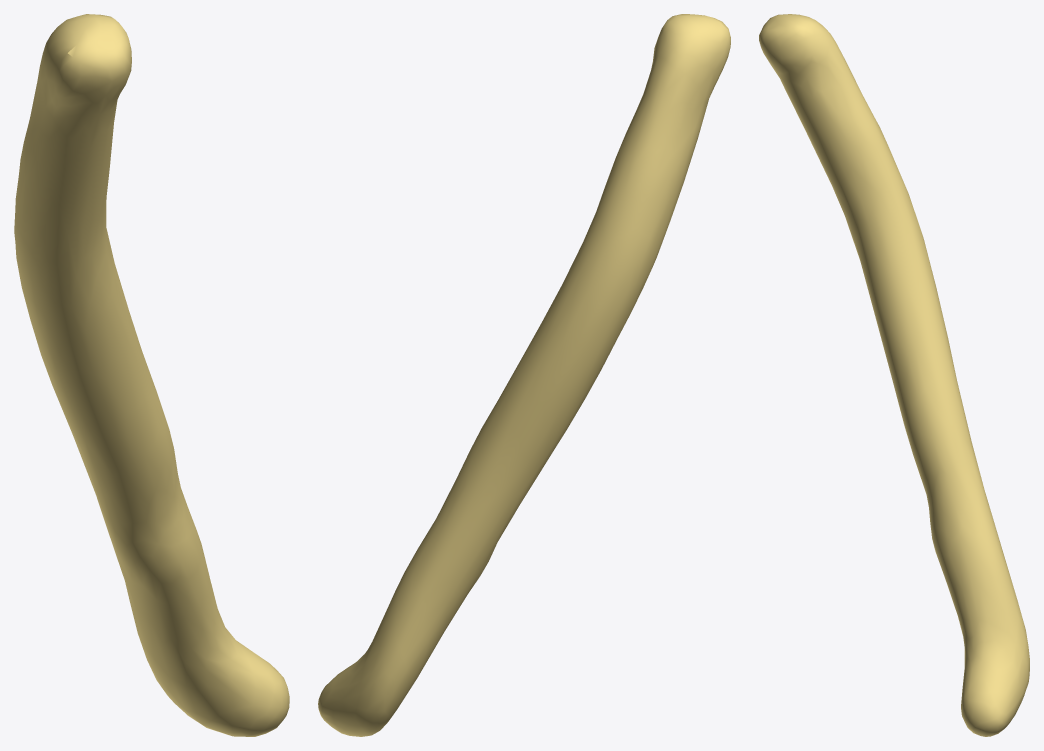
File: fma256691-r_mm3526m.glb
The picture shows the model from 3 angles, left to right: view 1: azimuth 30°, elevation 25°; view 2: azimuth 150°, elevation 25°; view 3: azimuth 270°, elevation 25°; orthographic projection. The views are drawn at different scales.
Visible parts, largest first — view 1: FMA256691-R_MM3526M; view 2: FMA256691-R_MM3526M; view 3: FMA256691-R_MM3526M.
Part boxes in pixels (bbox=[...]): FMA256691-R_MM3526M: bbox=[14, 14, 289, 736]; FMA256691-R_MM3526M: bbox=[318, 14, 730, 736]; FMA256691-R_MM3526M: bbox=[759, 14, 1029, 736].
Size of the model in its own units: 0.00682 by 0.0154 by 0.00616.
